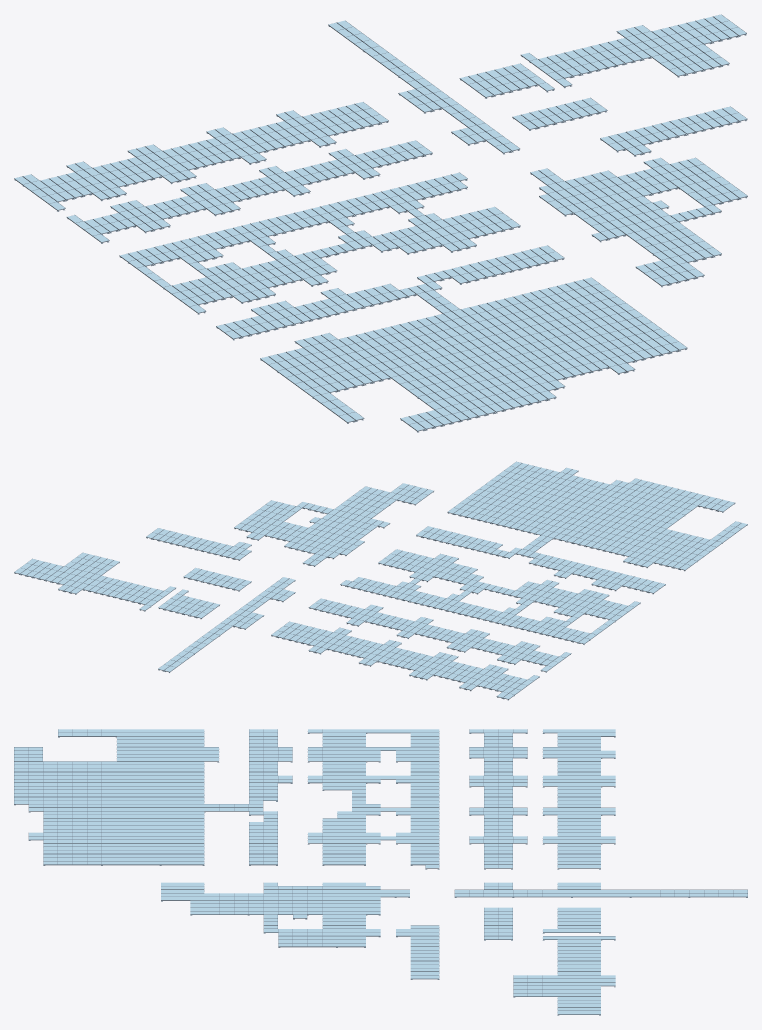
Rendered from SM_MPR4_SolarBank_02_0.fbx.
The picture shows the model from 3 angles, top to bottom: view 1: azimuth 30°, elevation 25°; view 2: azimuth 150°, elevation 25°; view 3: azimuth 270°, elevation 25°; orthographic projection. The views are drawn at different scales.
Parts seen in each view (by area): view 1: SM_MPR4_SolarBank_02_0; view 2: SM_MPR4_SolarBank_02_0; view 3: SM_MPR4_SolarBank_02_0.
Boxes of the visible parts, x1,y1,x2,y2 form: SM_MPR4_SolarBank_02_0: (14, 14, 747, 432); SM_MPR4_SolarBank_02_0: (14, 461, 747, 700); SM_MPR4_SolarBank_02_0: (14, 729, 747, 1015).
Bounding box in the file's own units: 8953 × 9744 × 24.6.
